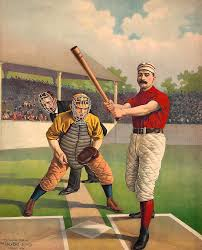baseball bat: (68, 44, 121, 120)
